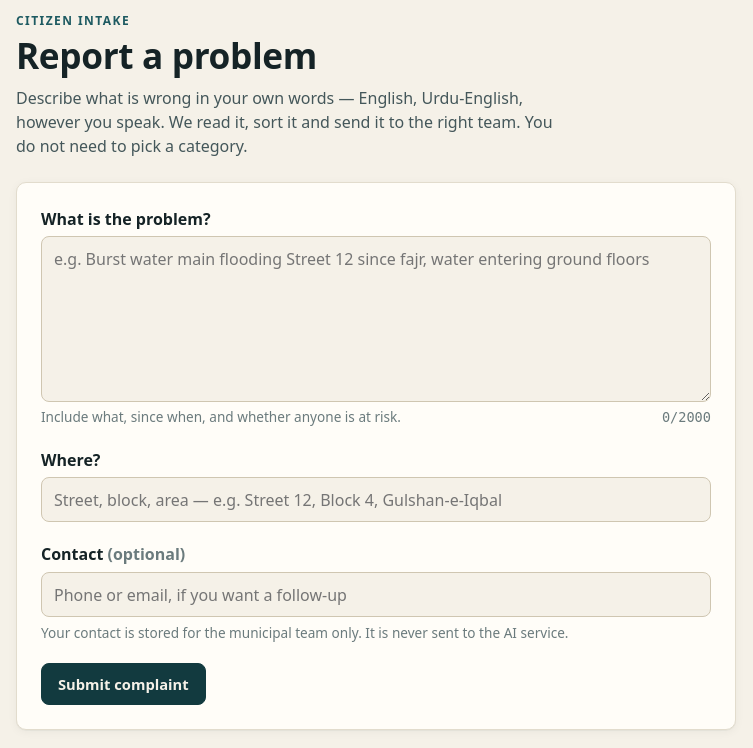
SubmitPage › tells the citizen when the rule-based fallback was used
Step 1. Type "Burst water main flooding Street 12" into the text box labelled "What is the problem?" → [376, 319], box top-left (41, 236), bottom-right (711, 402)
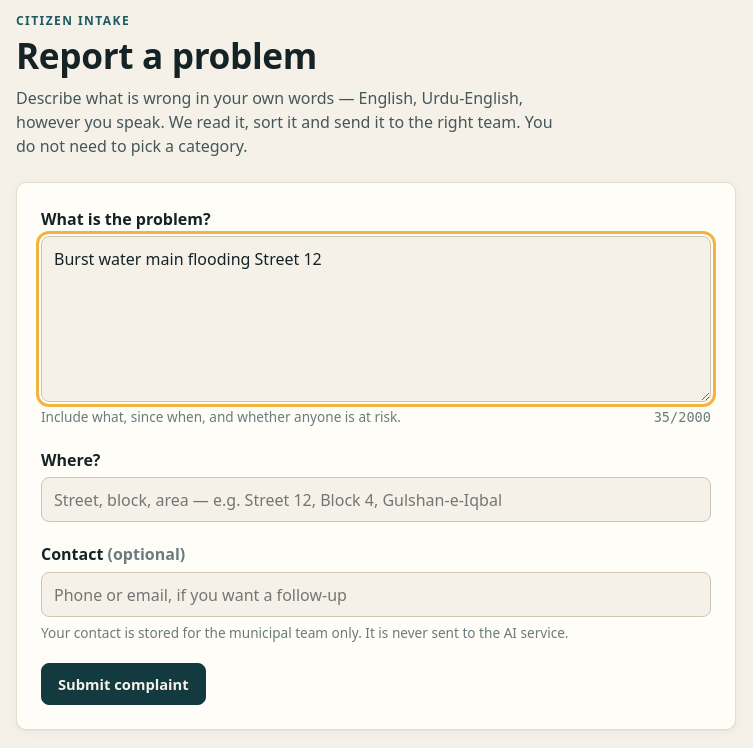
Step 2. Type "Street 12, Gulshan" into the field labelled "Where?" → [376, 500], box top-left (41, 477), bottom-right (711, 522)
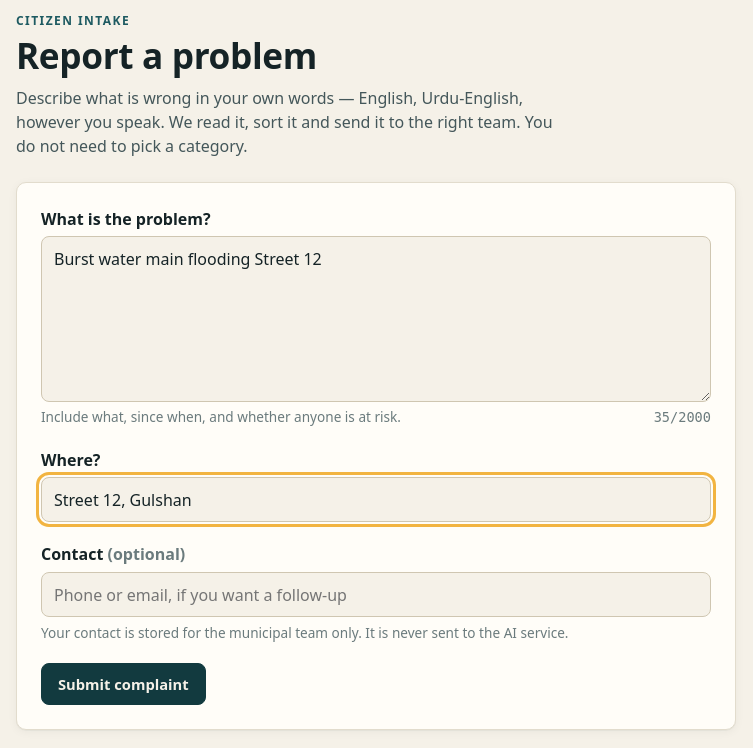
Step 3. Click the button "Submit complaint" → [123, 684], box top-left (41, 663), bottom-right (206, 705)
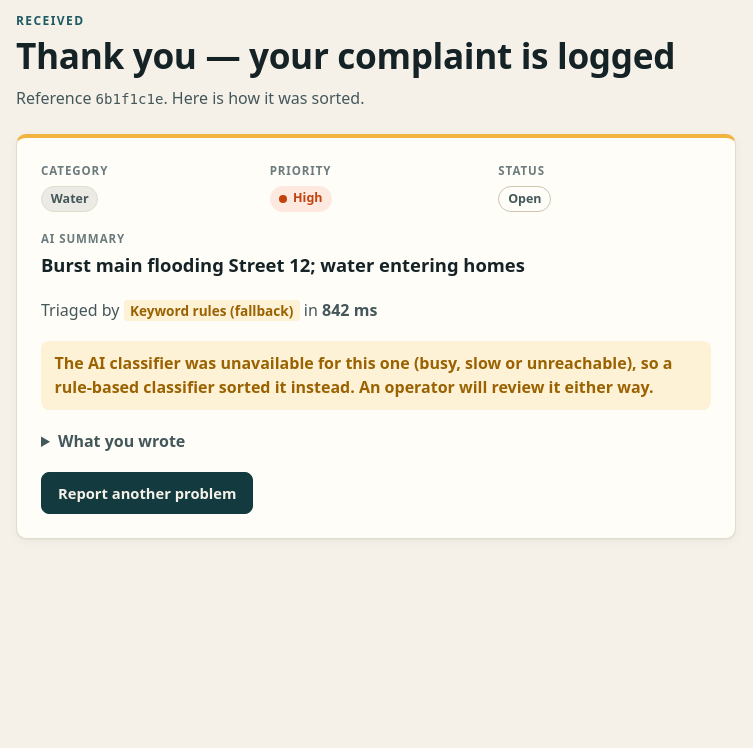
Result: the text "Keyword rules (fallback)" is shown at top-left (124, 300), bottom-right (300, 321)
Result: the text "AI classifier was unavailable" is shown at top-left (55, 352), bottom-right (672, 398)
